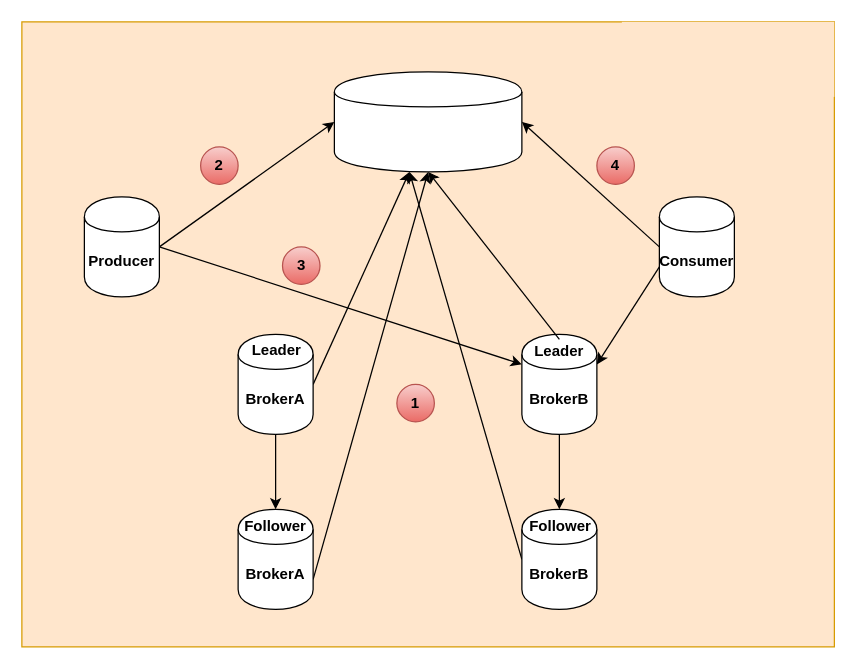
This 856x669 diagram has some shape labels left out. The centre of each missing label's shape, as x and y in pixels:
NameServer: the point at 427,121
RocketMQ工作流程: the point at 727,58
